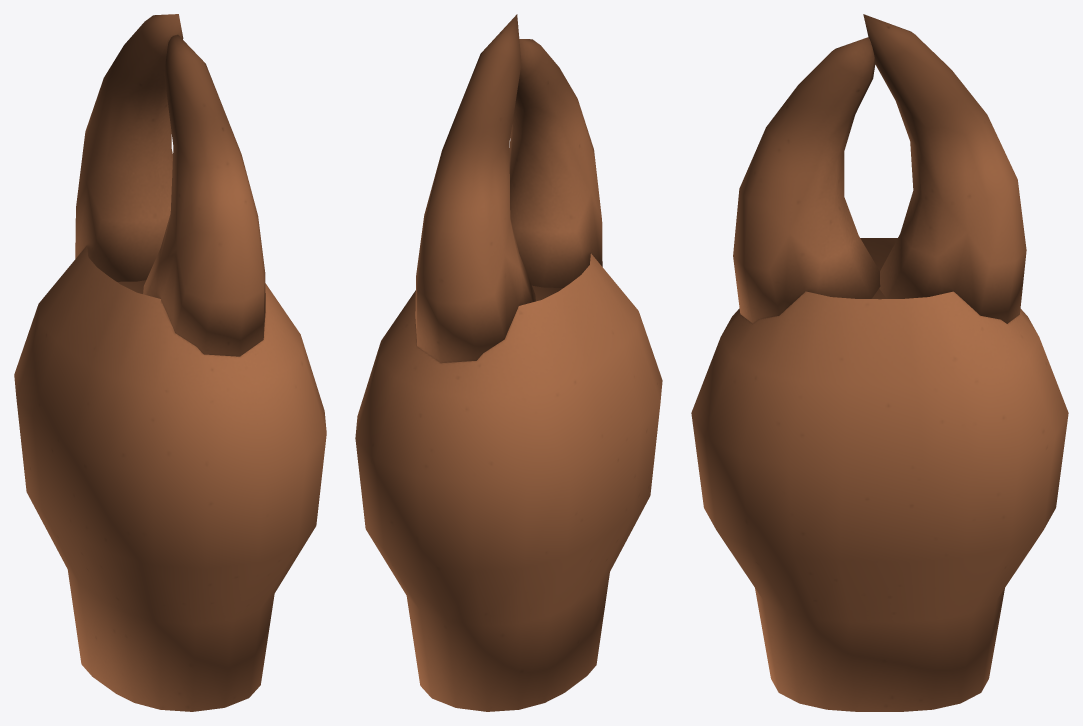
The model's file is cpart_hand_pincer.glb.
3 renders of one model, left to right at view 1: azimuth 30°, elevation 25°; view 2: azimuth 150°, elevation 25°; view 3: azimuth 270°, elevation 25°, orthographic. The views are drawn at different scales.
Parts seen in each view (by area): view 1: HandPincer; view 2: HandPincer; view 3: HandPincer.
Boxes of the visible parts, bbox=[...] form: HandPincer: bbox=[14, 14, 326, 711]; HandPincer: bbox=[355, 14, 662, 711]; HandPincer: bbox=[691, 14, 1068, 711].
Bounding box in the file's own units: 0.0648 × 0.175 × 0.09.
1 material, 1 textured.
